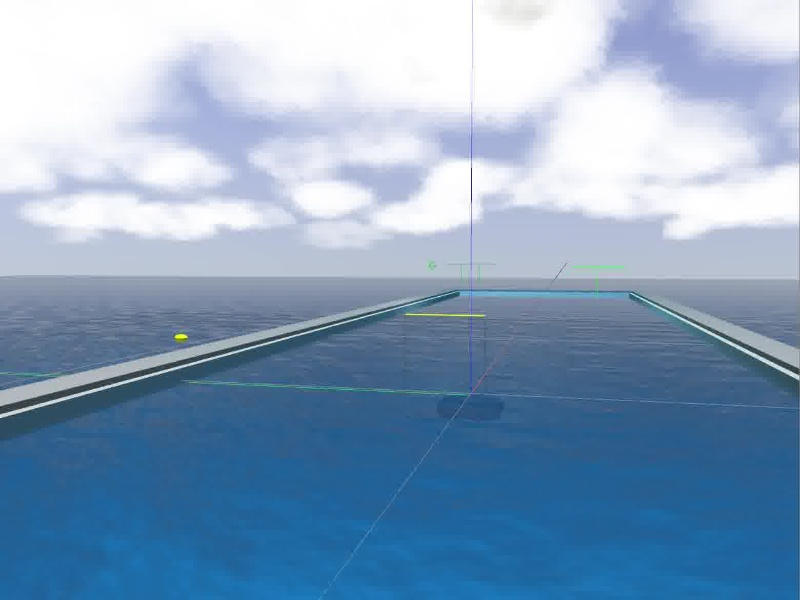gate: (402, 311, 490, 376)
